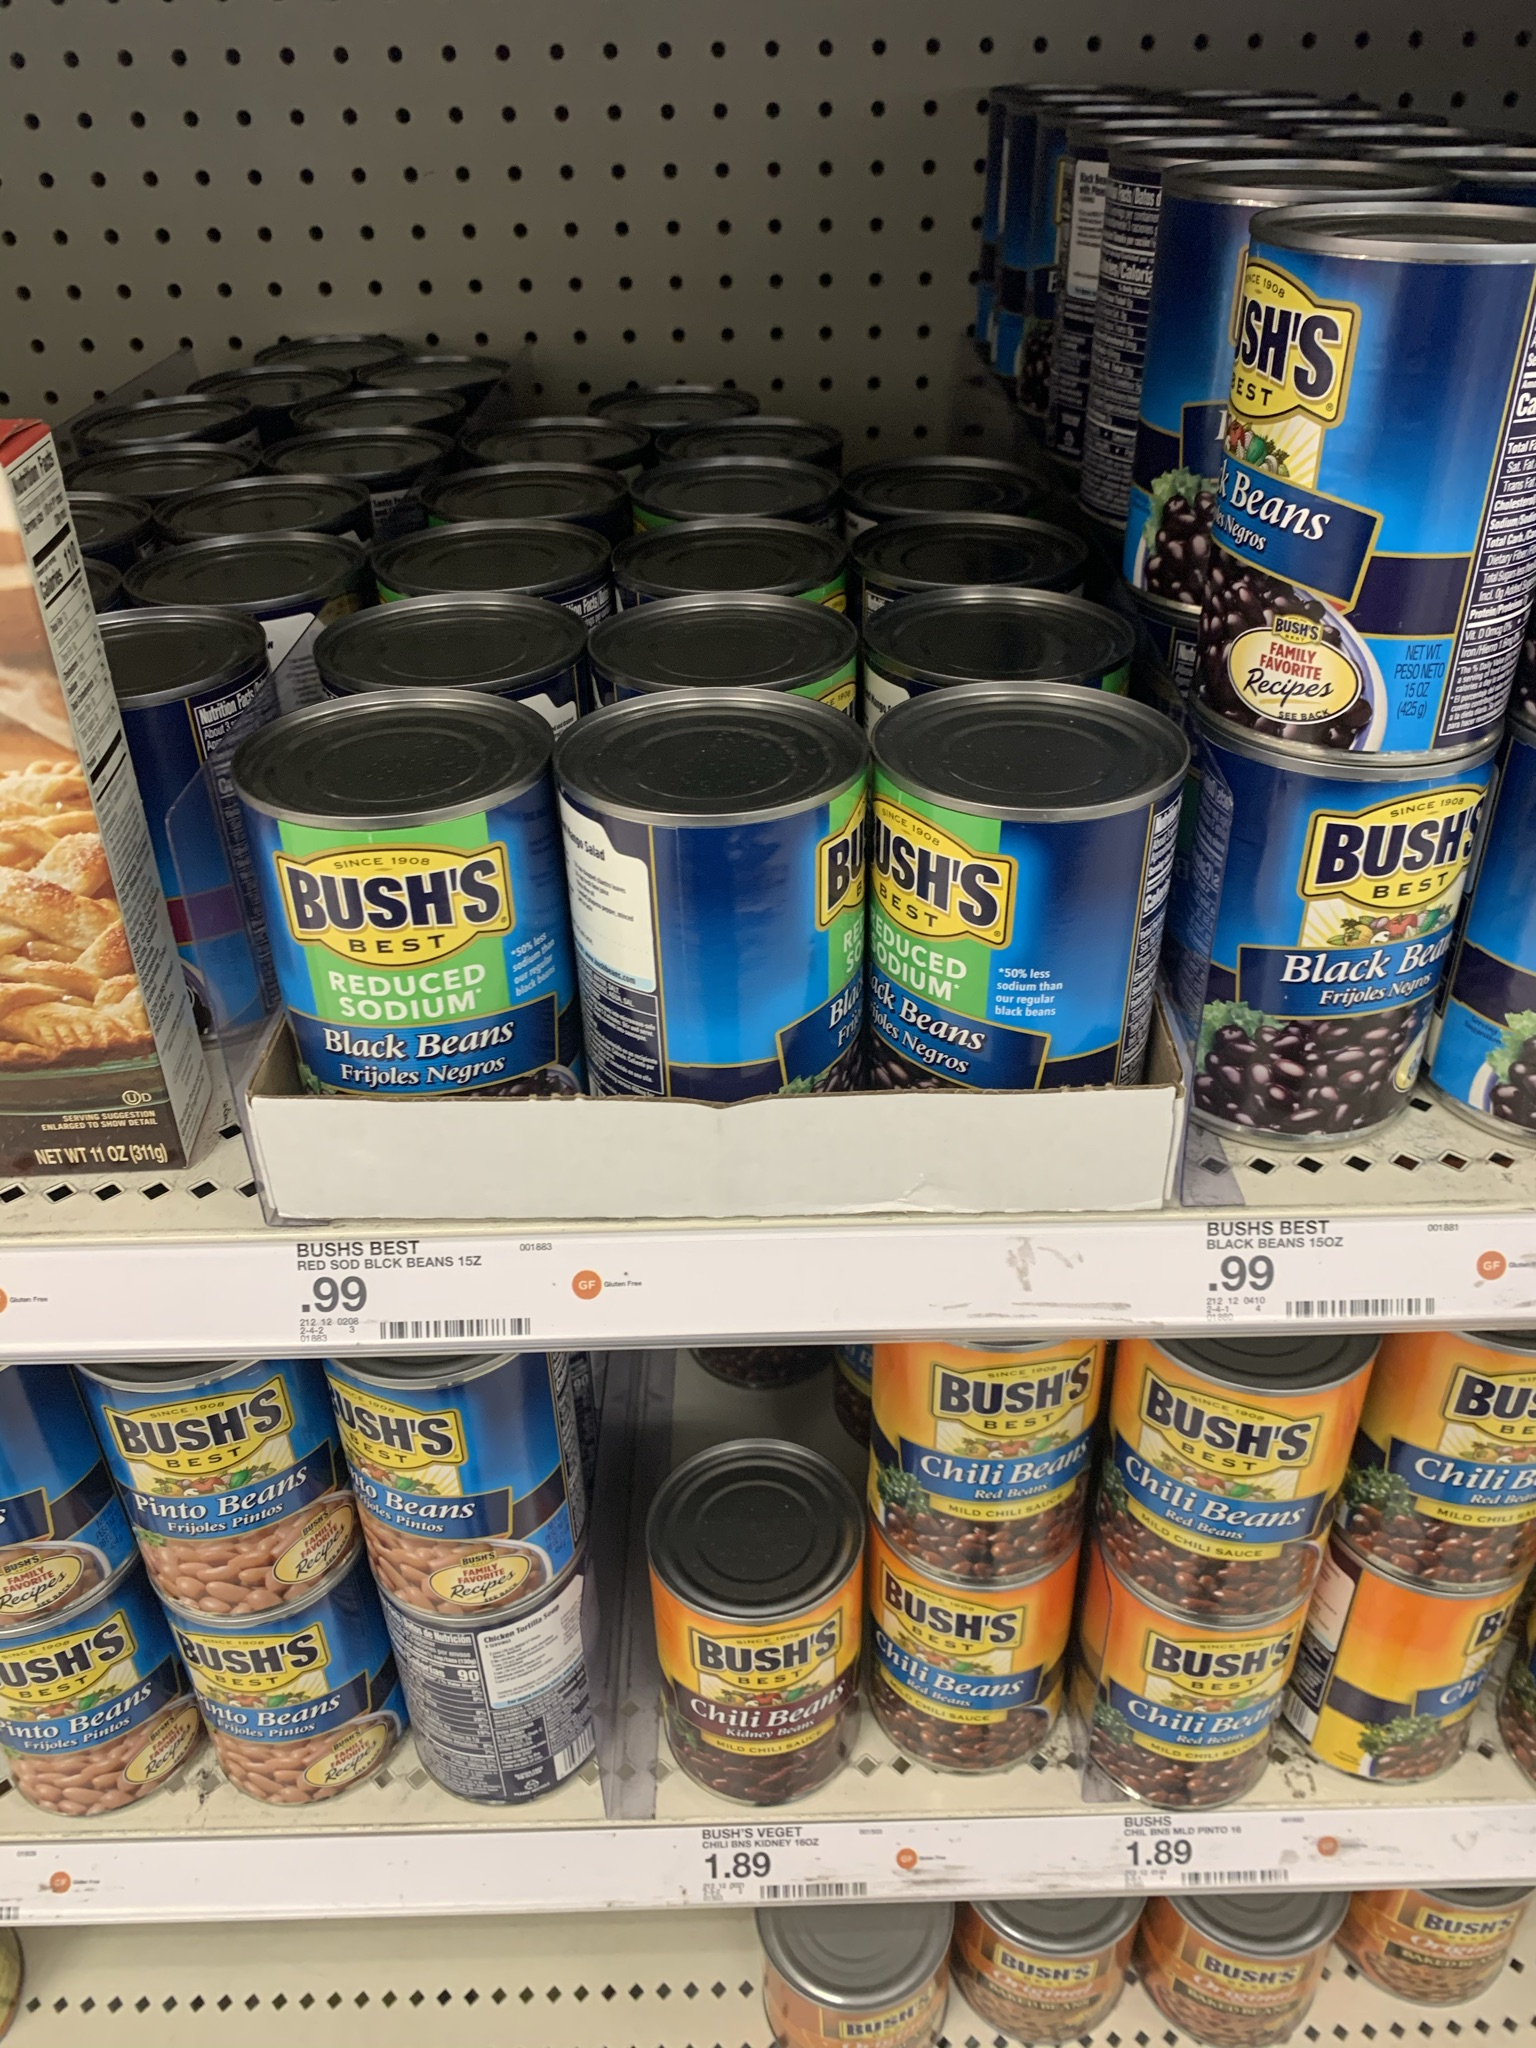can: (1228, 223, 1534, 760), (232, 793, 553, 1105), (870, 771, 1176, 1092), (552, 803, 866, 1097), (1204, 789, 1438, 1109), (658, 1555, 836, 1785), (900, 1355, 1086, 1559), (1160, 1353, 1309, 1601), (145, 1380, 298, 1587), (1107, 1624, 1271, 1793), (892, 1588, 1050, 1751), (197, 1635, 365, 1779)
